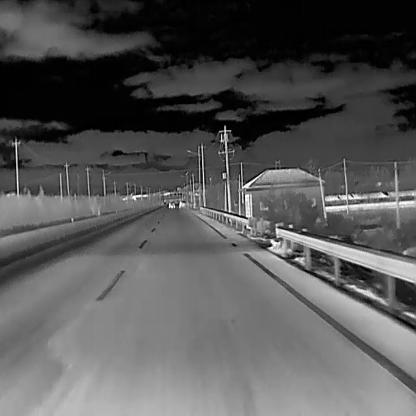car: (167, 199, 176, 210), (178, 198, 186, 210)
